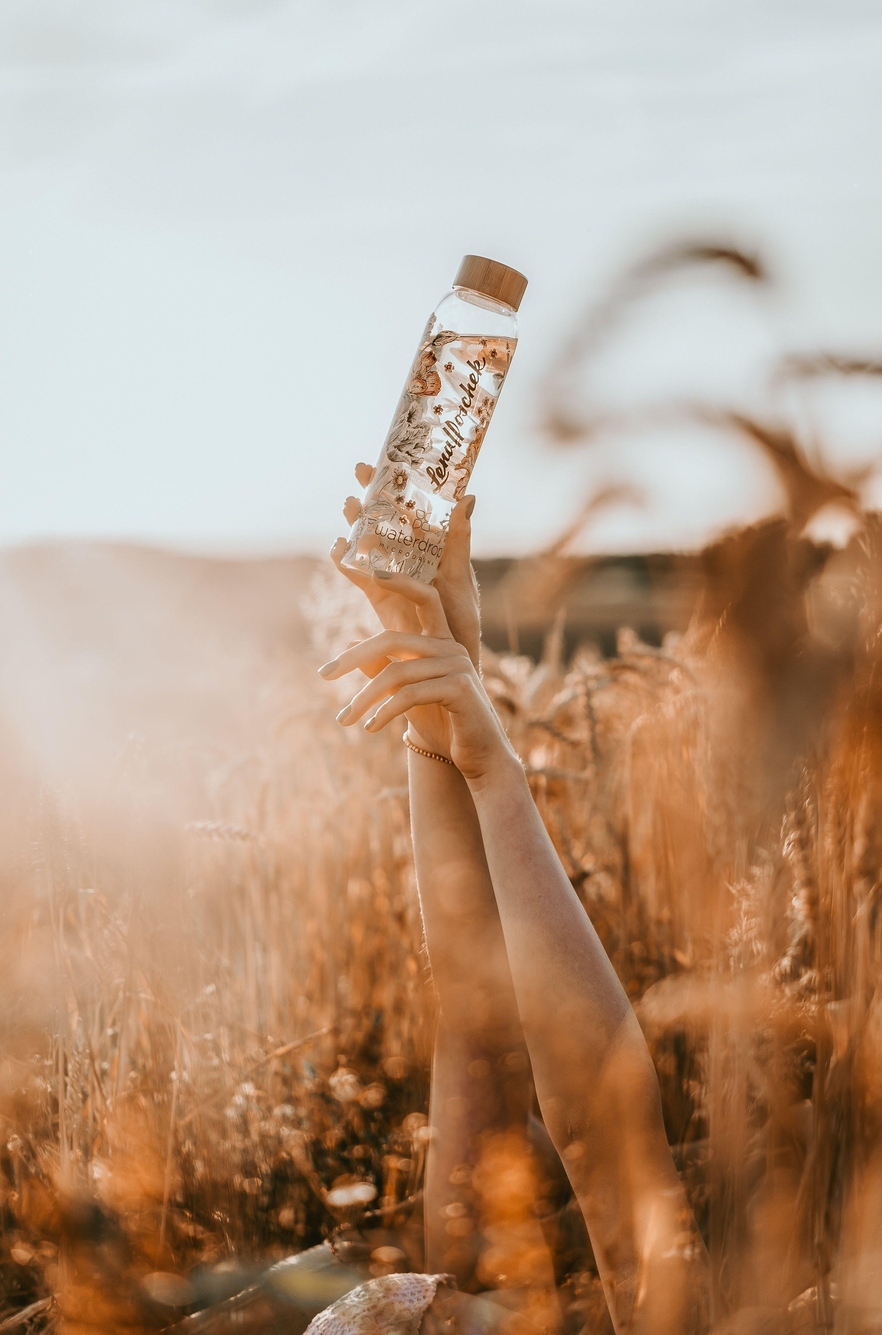gym bottle: (342, 252, 531, 597)
